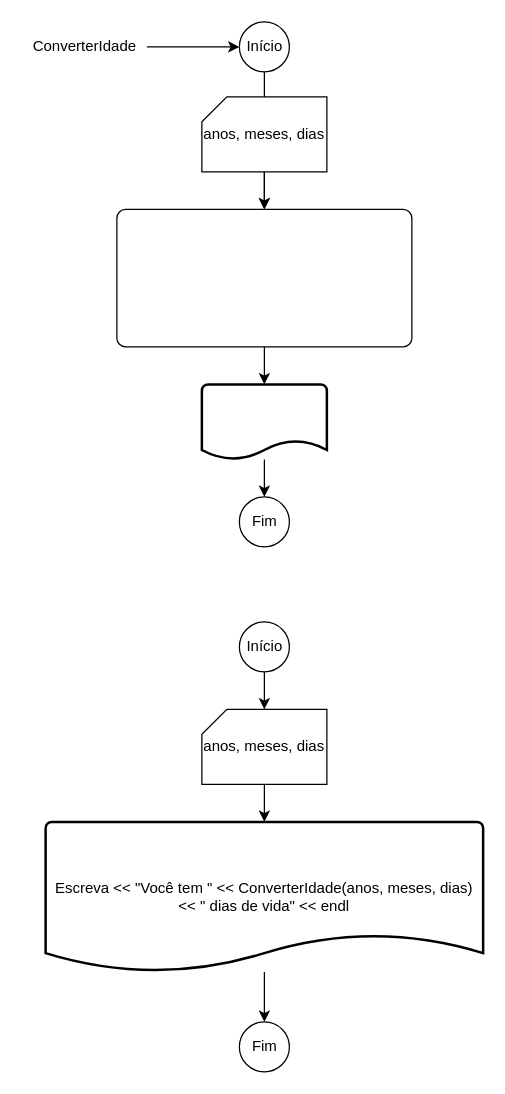
This 505x1094 diagram has some shape labels left out. Each missing label, with the centre of its shape:
"dias += ((anos * 360) + (meses * 30))" goes at [264,277].
"Retorna dias" goes at [264,421].
